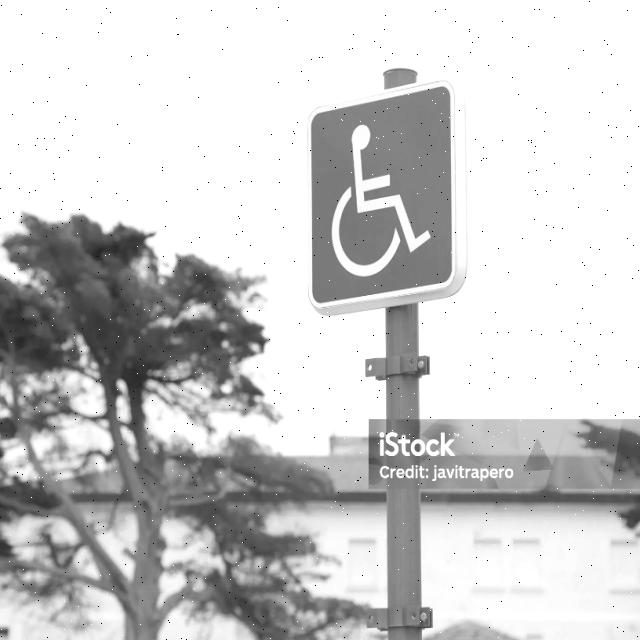symbol_of_access: (302, 76, 471, 314)
